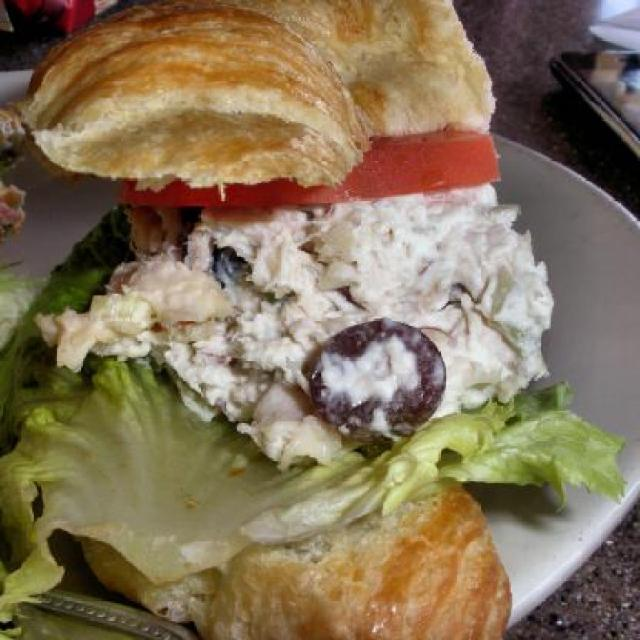Croissant: (4, 15, 536, 597)
